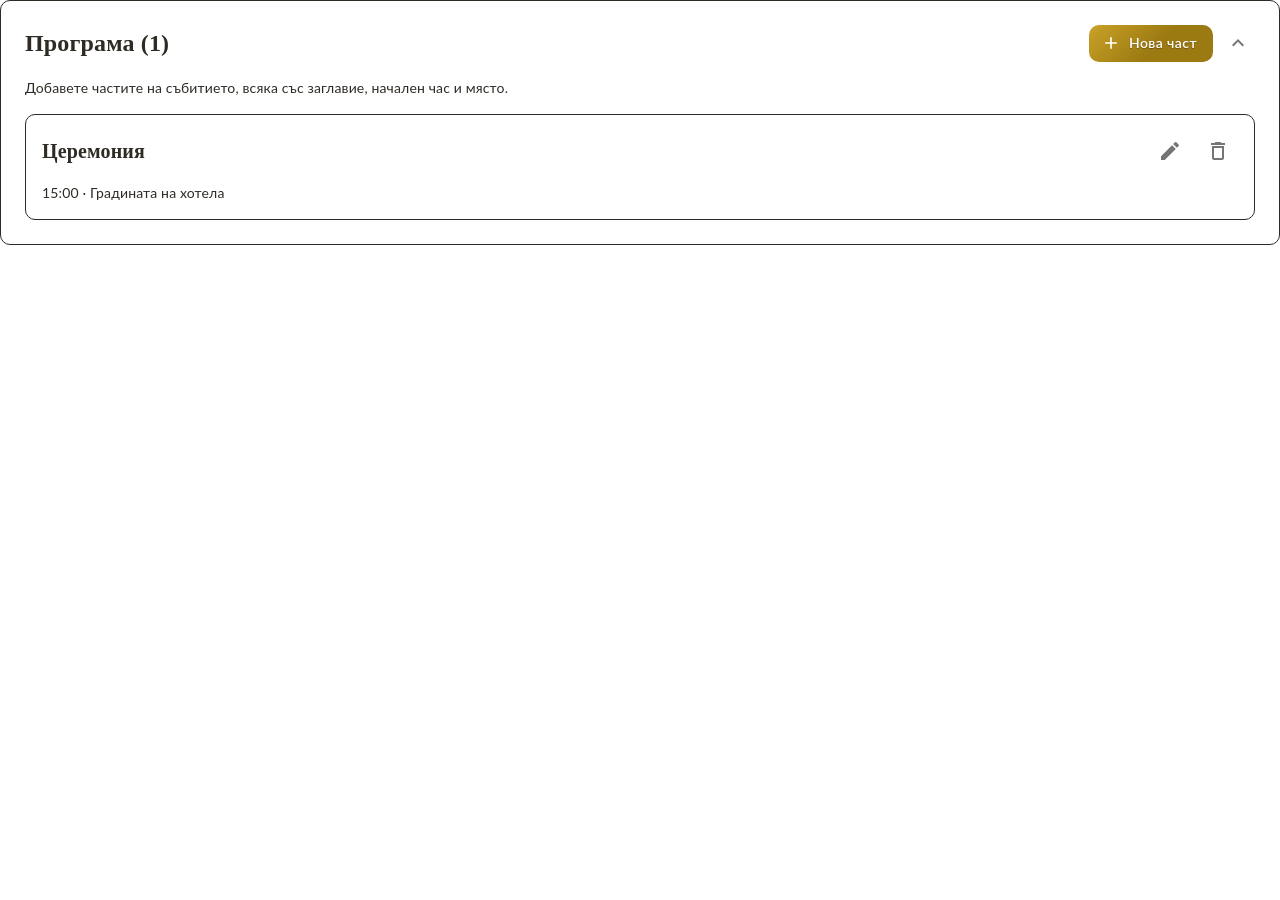
Test: ScheduleDialog time › is typed in 24-hour time with the colon added
Click the button "Нова част" at (1151, 43), box top-left (1089, 25), bottom-right (1213, 62)
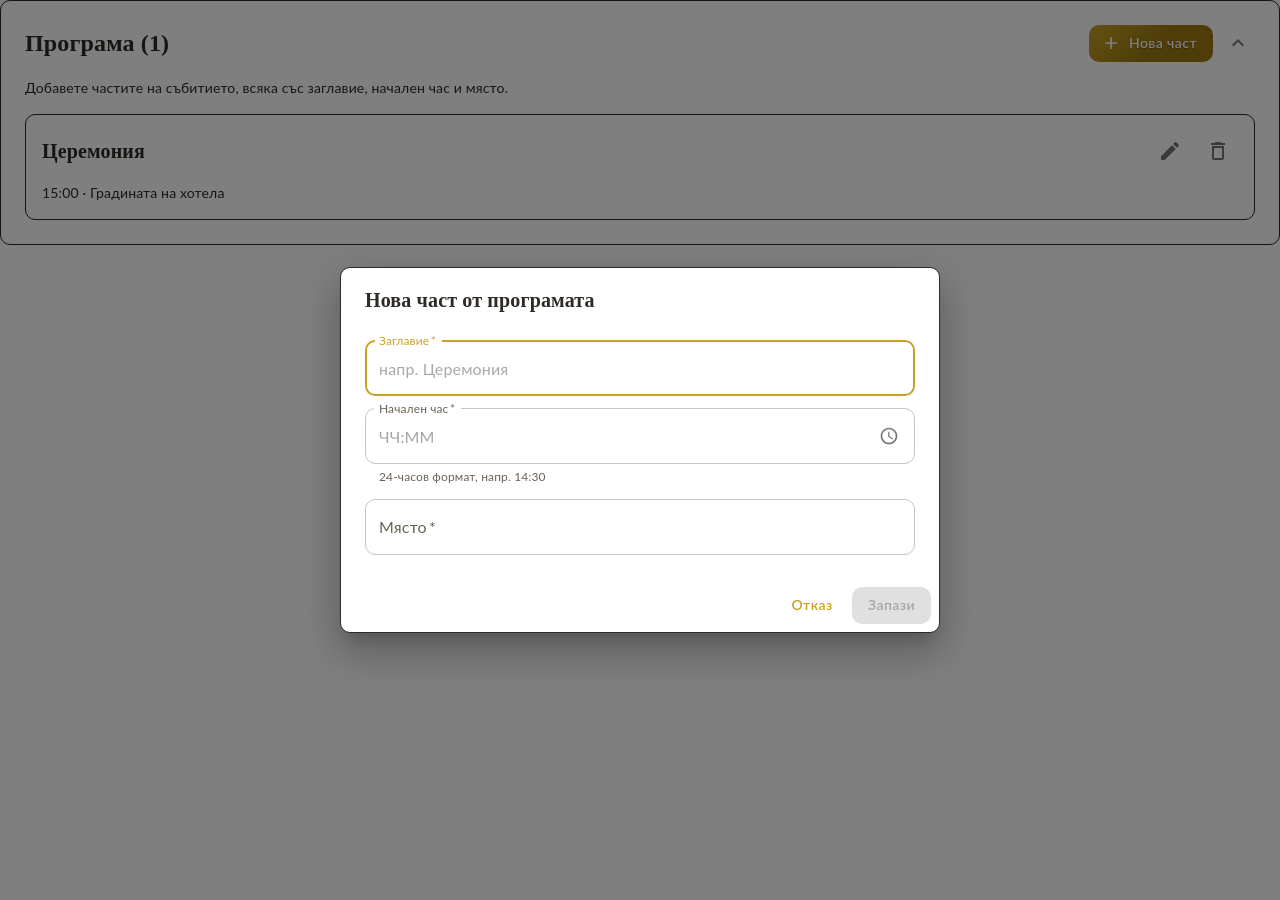
Type "1930" into the field labelled "Начален час *" at (616, 436), box top-left (365, 408), bottom-right (866, 464)
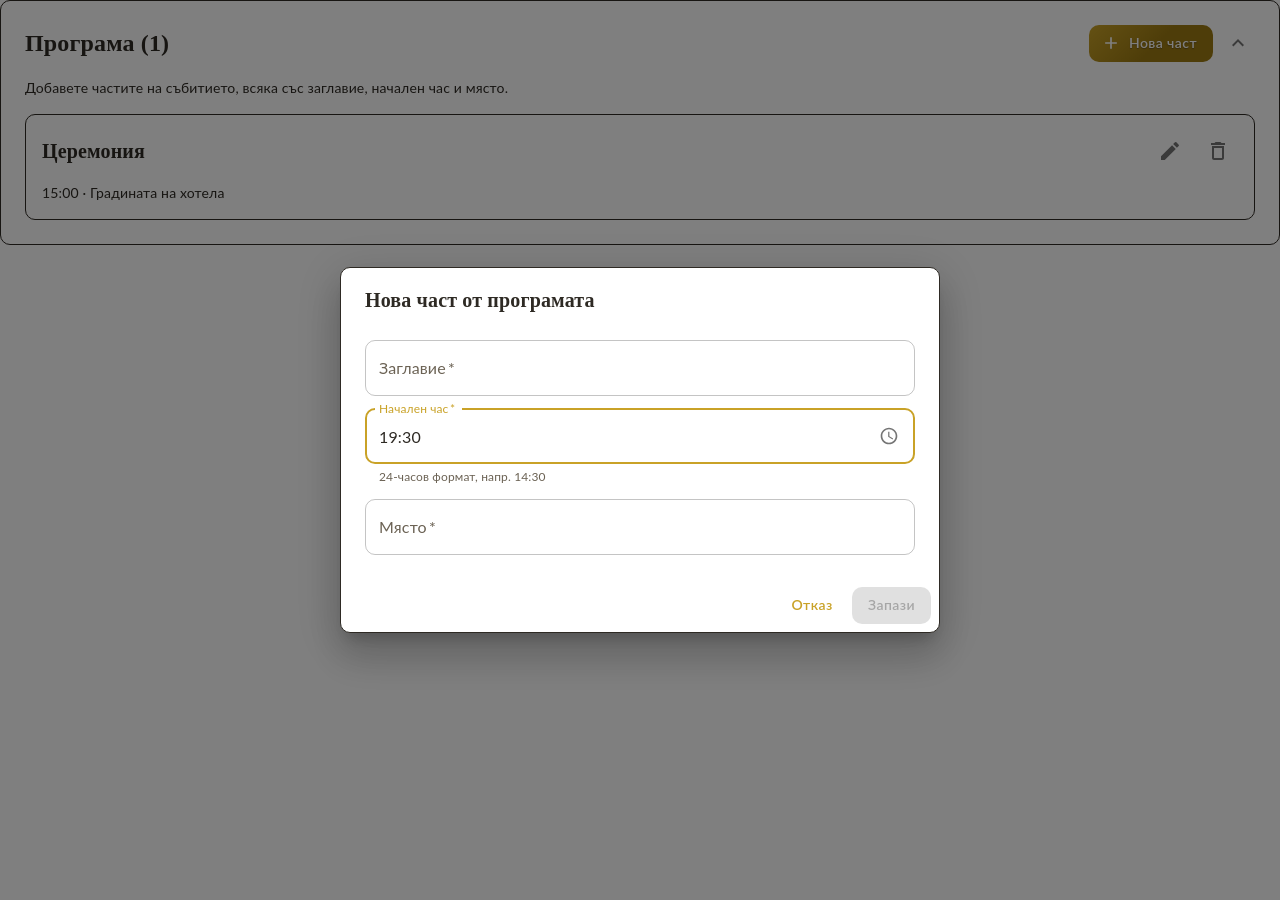
Expected: the button named "Избери час" is shown, top-left (874, 421), bottom-right (904, 451)
Expected: the field labelled "Начален час *" holds "19:30", top-left (365, 408), bottom-right (866, 464)
